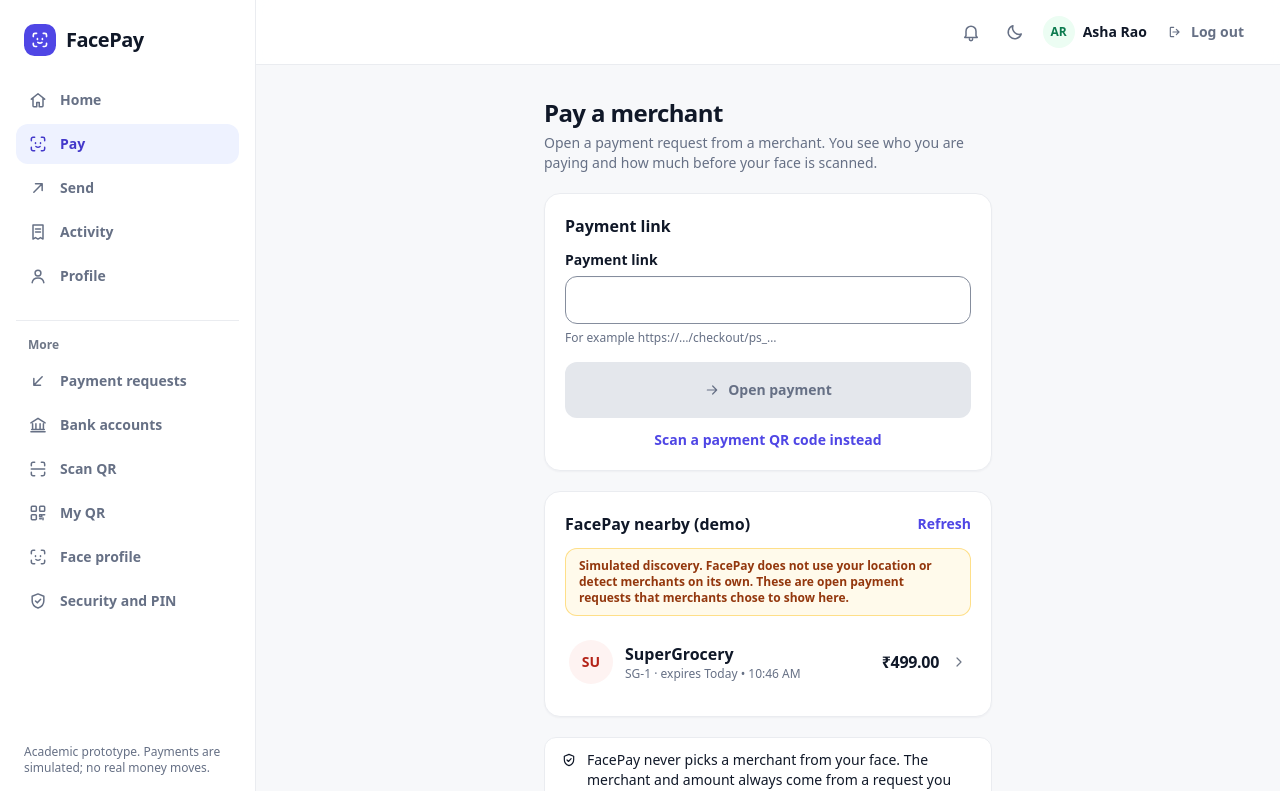
Scenario: pay a merchant › labels the nearby list as a simulation and opens the chosen request
Expected: the text "does not use your location" is shown, 579,557 -> 932,606
Click the link "SU SuperGrocery SG-1 · expires Today • 10:46 AM ₹499.00". click: (768, 662)
box: 565,628 -> 971,696
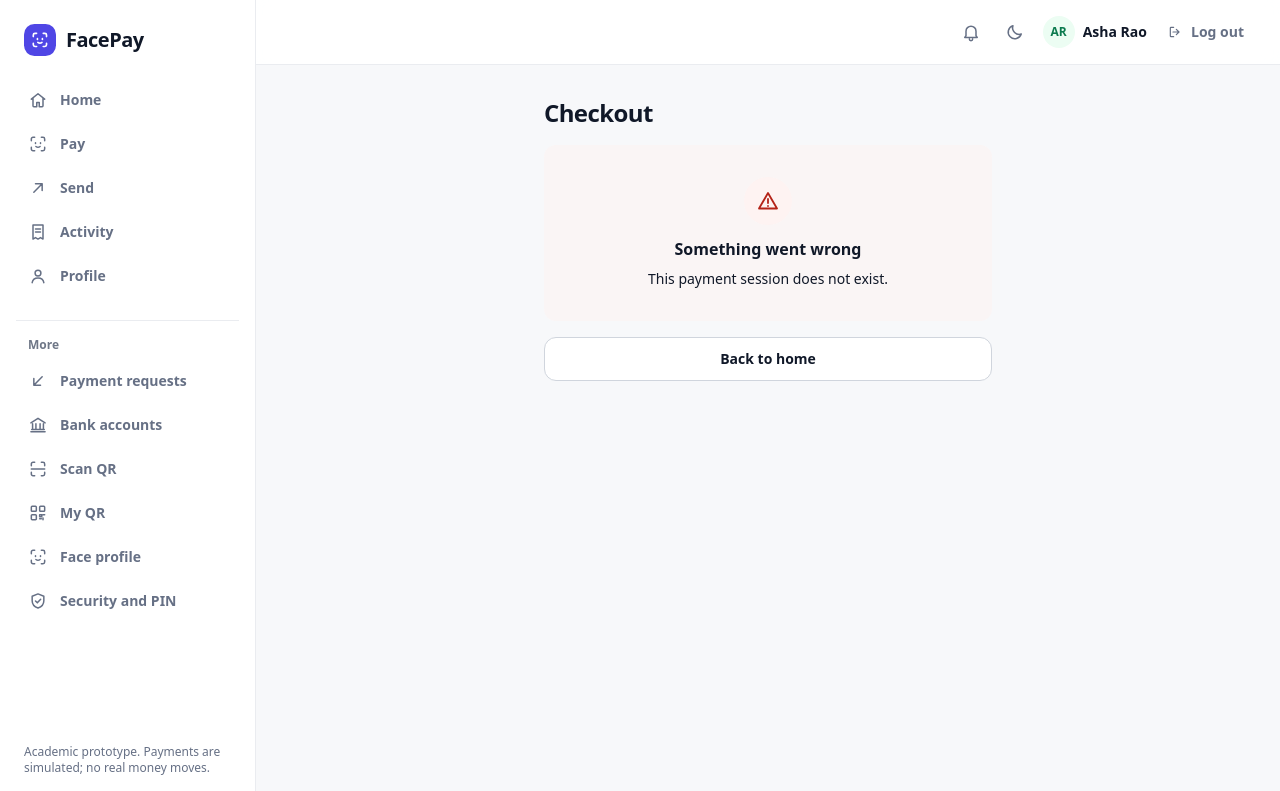
Expected: the message "Something went wrong This payment session does not exist." is shown, 544,145 -> 992,321
